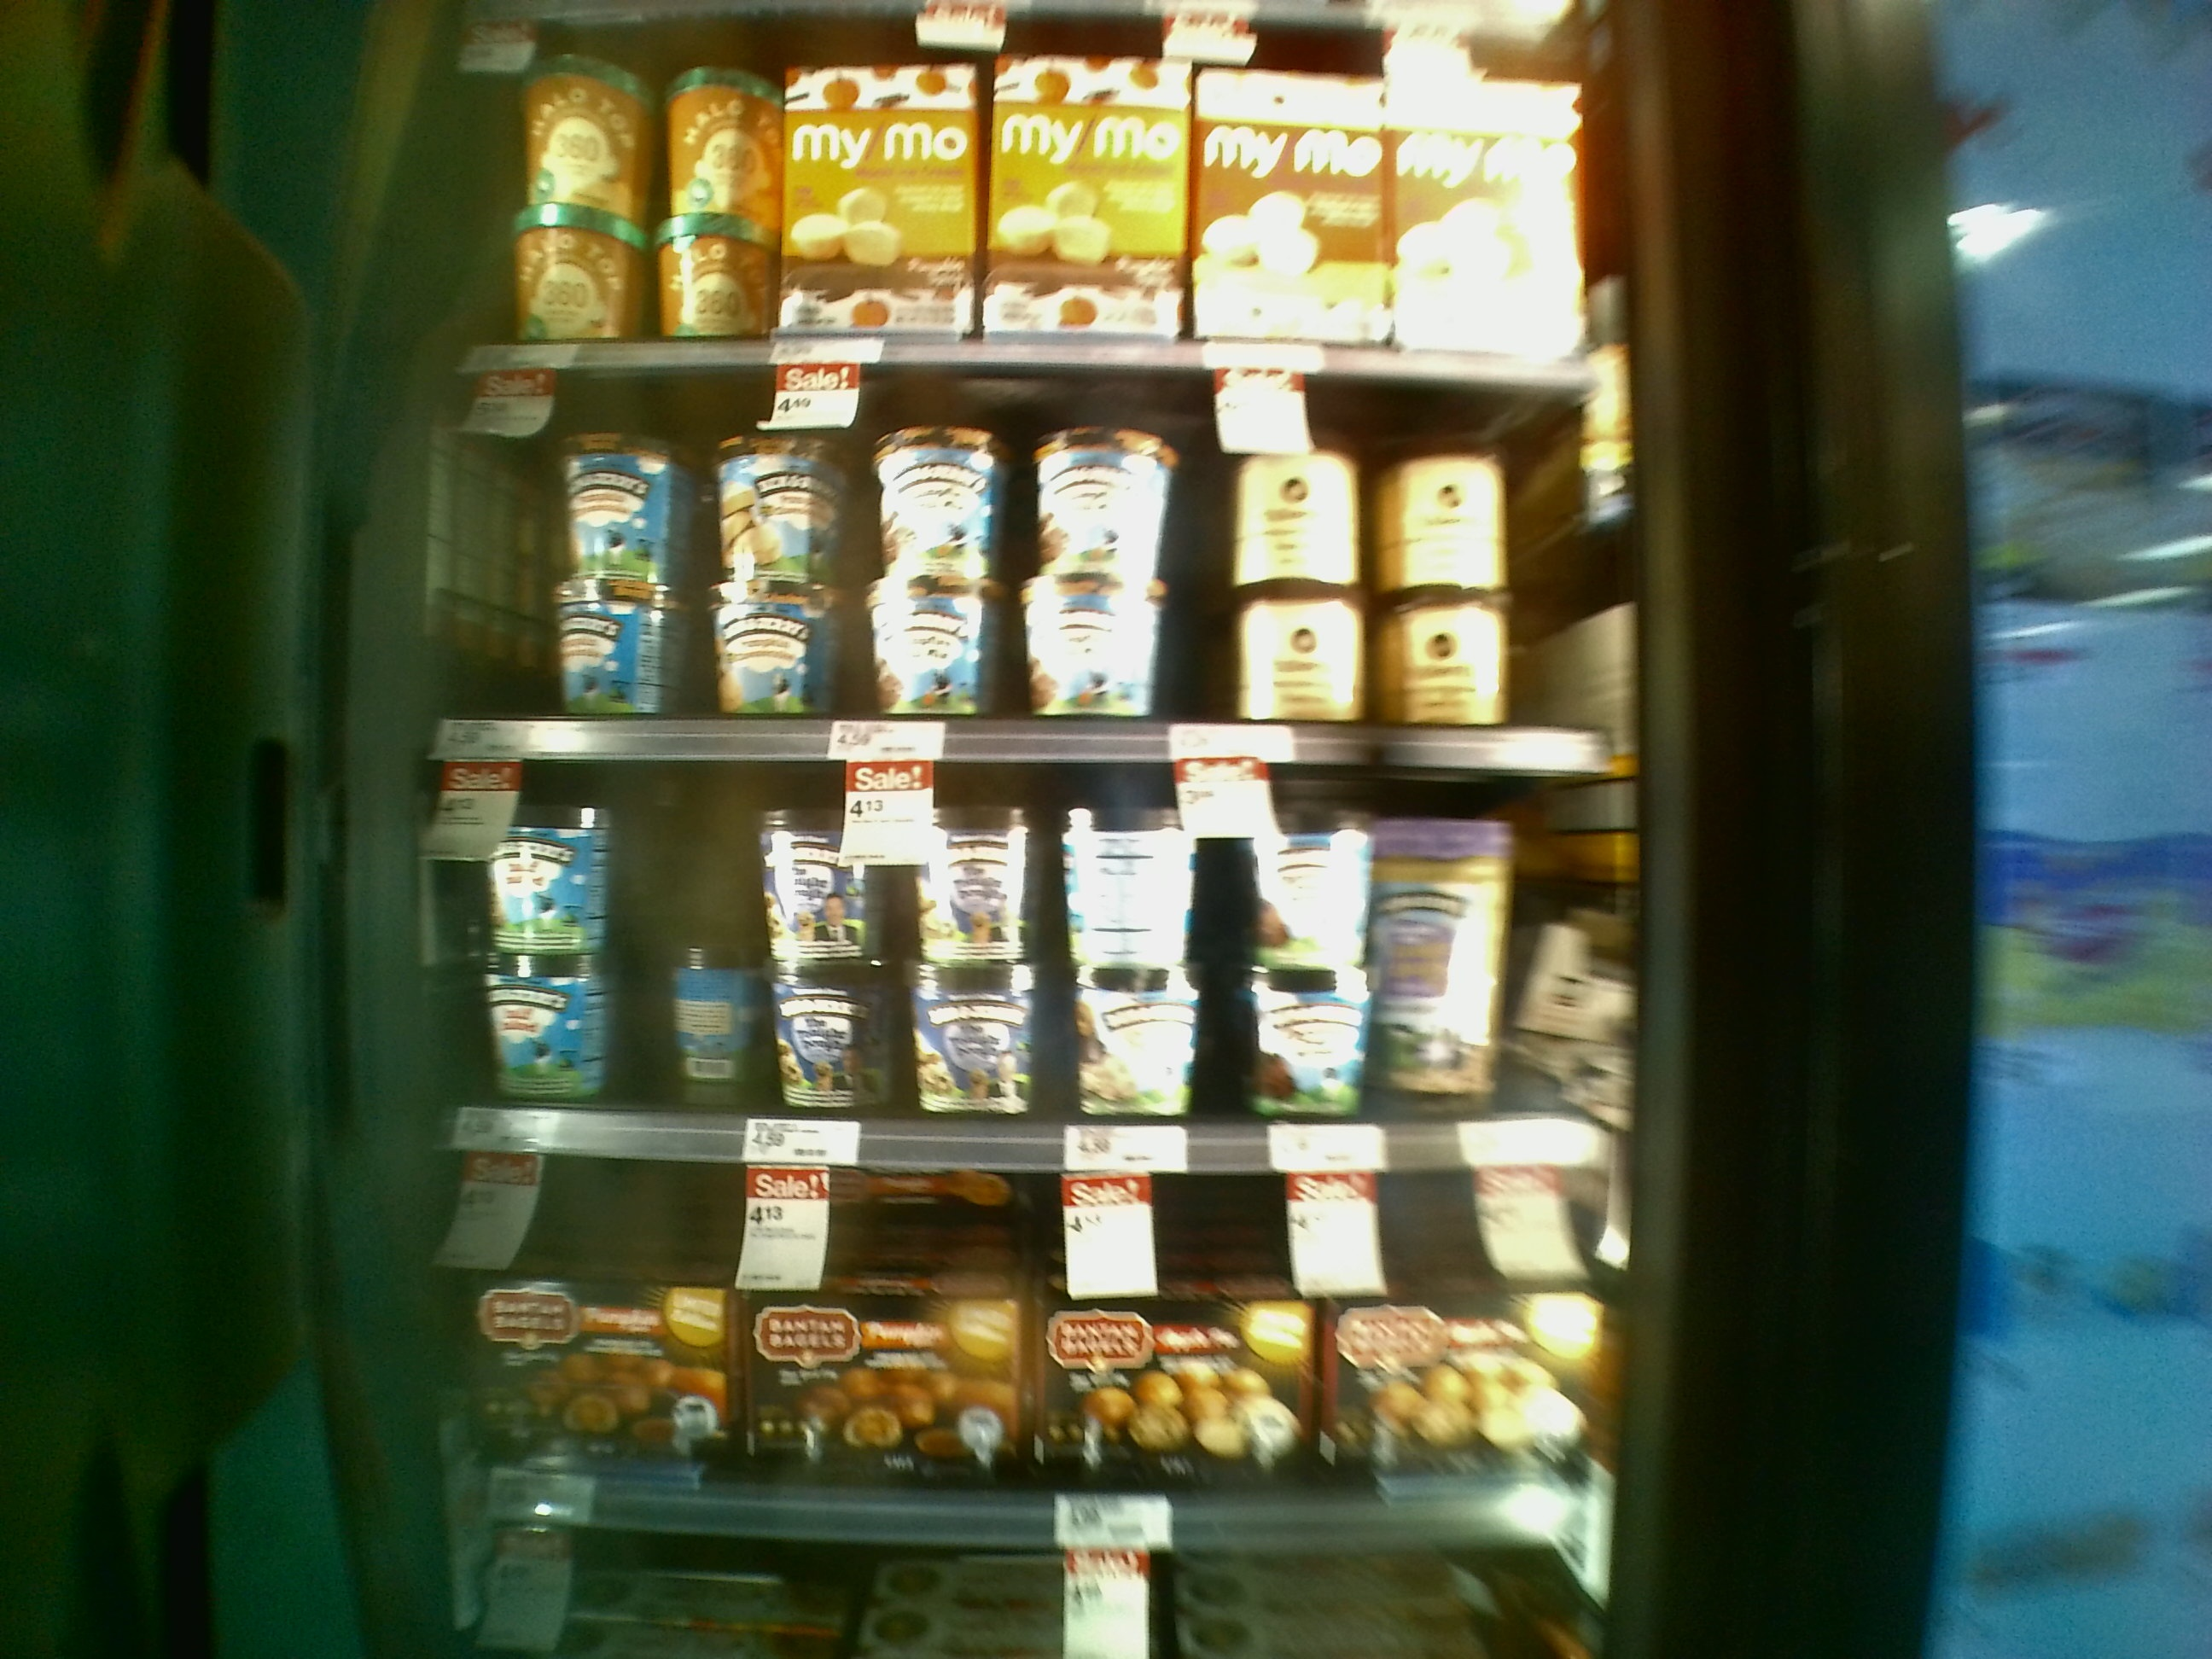shelf: (394, 359, 1635, 791), (355, 749, 1625, 1169), (366, 1134, 1613, 1540)
